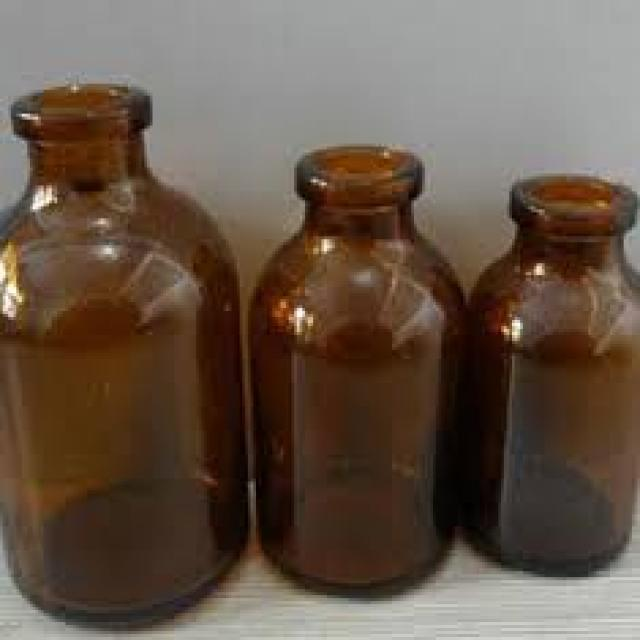glass: (0, 81, 245, 622), (240, 144, 471, 592), (469, 174, 638, 572)
